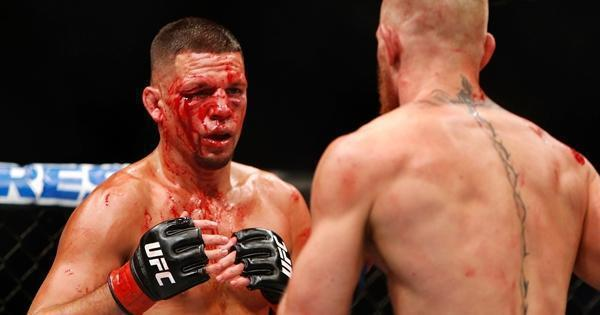Fire: (57, 60, 311, 292), (525, 120, 554, 140), (473, 84, 490, 102), (572, 148, 586, 164)
